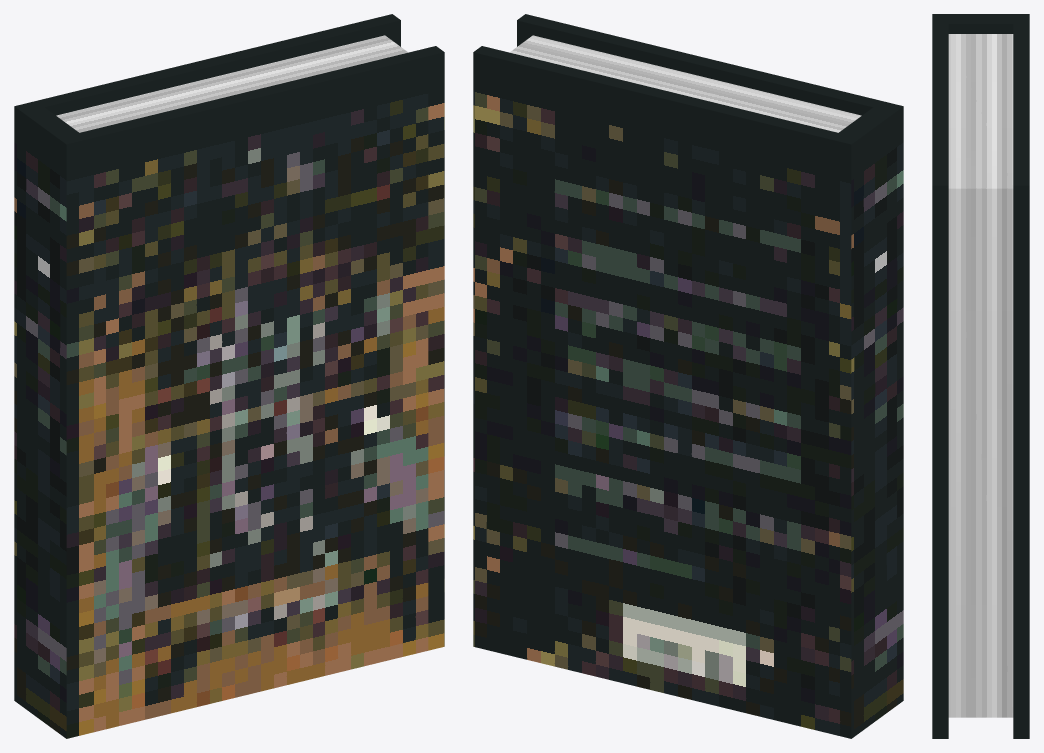
The model's file is book_blue_07.glb.
The picture shows the model from 3 angles, left to right: view 1: azimuth 30°, elevation 25°; view 2: azimuth 150°, elevation 25°; view 3: azimuth 270°, elevation 25°; orthographic projection. The views are drawn at different scales.
Visible parts, largest first — view 1: Book_Blue_7; view 2: Book_Blue_7; view 3: Book_Blue_7.
Boxes of the visible parts, x1,y1,x2,y2 form: Book_Blue_7: [14, 14, 444, 738]; Book_Blue_7: [473, 14, 903, 738]; Book_Blue_7: [932, 14, 1029, 738].
Size of the model in its own units: 0.1592 by 0.2391 by 0.0381.
Materials: 1 (1 with a texture image).
